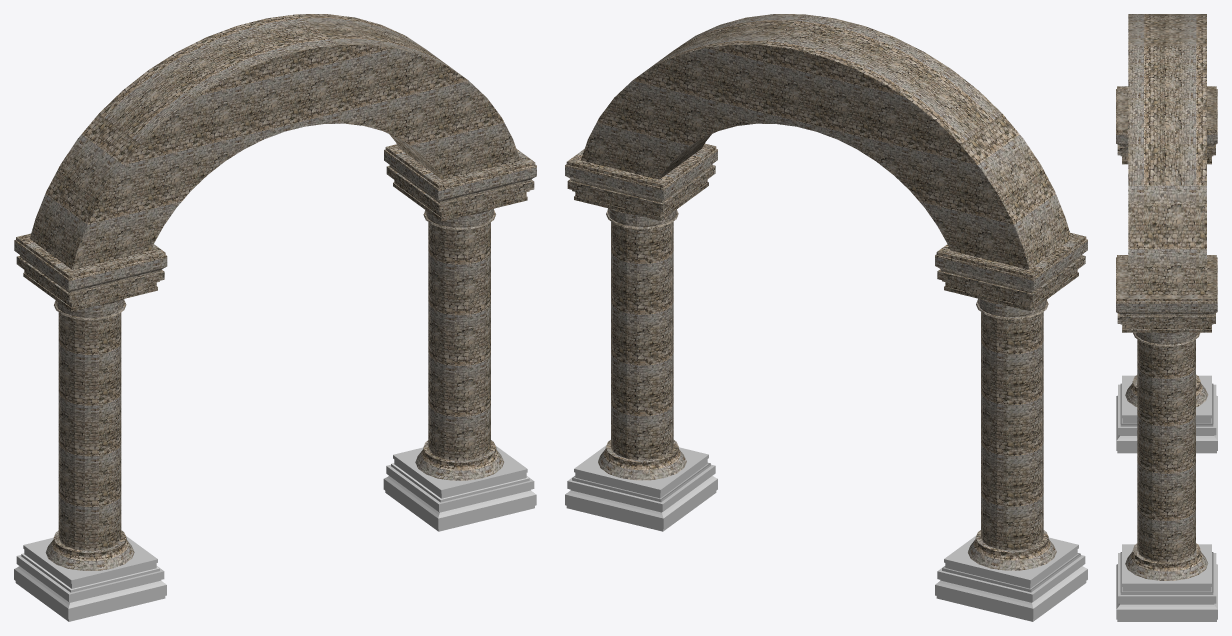
The model's file is archway.dae.
The picture shows the model from 3 angles, left to right: view 1: azimuth 30°, elevation 25°; view 2: azimuth 150°, elevation 25°; view 3: azimuth 270°, elevation 25°; orthographic projection. The views are drawn at different scales.
Visible parts, largest first — view 1: Arc001_Untitled_006_01_-_Default; view 2: Arc001_Untitled_006_01_-_Default; view 3: Arc001_Untitled_006_01_-_Default.
Part boxes in pixels (bbox=[...]): Arc001_Untitled_006_01_-_Default: bbox=[14, 14, 536, 621]; Arc001_Untitled_006_01_-_Default: bbox=[565, 14, 1087, 621]; Arc001_Untitled_006_01_-_Default: bbox=[1116, 14, 1217, 621].
Size of the model in its own units: 30.63 by 31.79 by 6.18.
